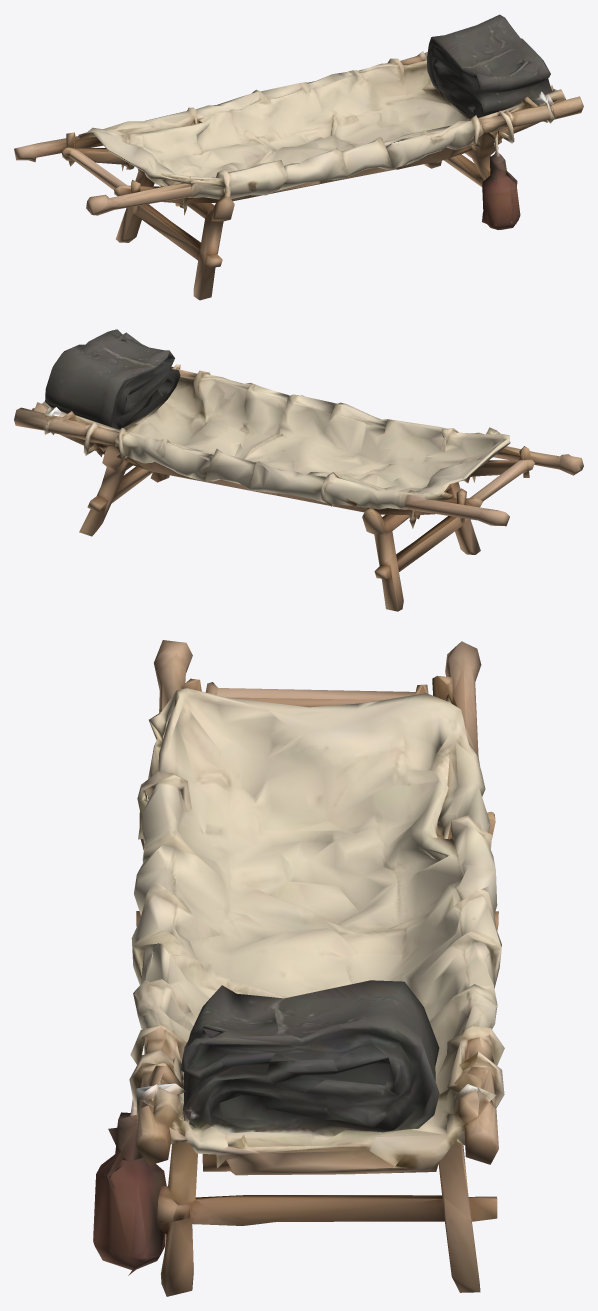
The model's file is casualty-litter.glb.
3 renders of one model, top to bottom at view 1: azimuth 30°, elevation 25°; view 2: azimuth 150°, elevation 25°; view 3: azimuth 270°, elevation 25°, orthographic. The views are drawn at different scales.
Visible parts, largest first — view 1: tripo_node_e115be12-e79d-49d0-8048-269c1fcf9fc1; view 2: tripo_node_e115be12-e79d-49d0-8048-269c1fcf9fc1; view 3: tripo_node_e115be12-e79d-49d0-8048-269c1fcf9fc1.
Part boxes in pixels (x1,y1,x2,y2): tripo_node_e115be12-e79d-49d0-8048-269c1fcf9fc1: [14, 14, 583, 300]; tripo_node_e115be12-e79d-49d0-8048-269c1fcf9fc1: [14, 329, 583, 611]; tripo_node_e115be12-e79d-49d0-8048-269c1fcf9fc1: [93, 640, 504, 1296].
Bounding box in the file's own units: 2.45 × 0.75 × 0.901.
Materials: 1 (1 with a texture image).
